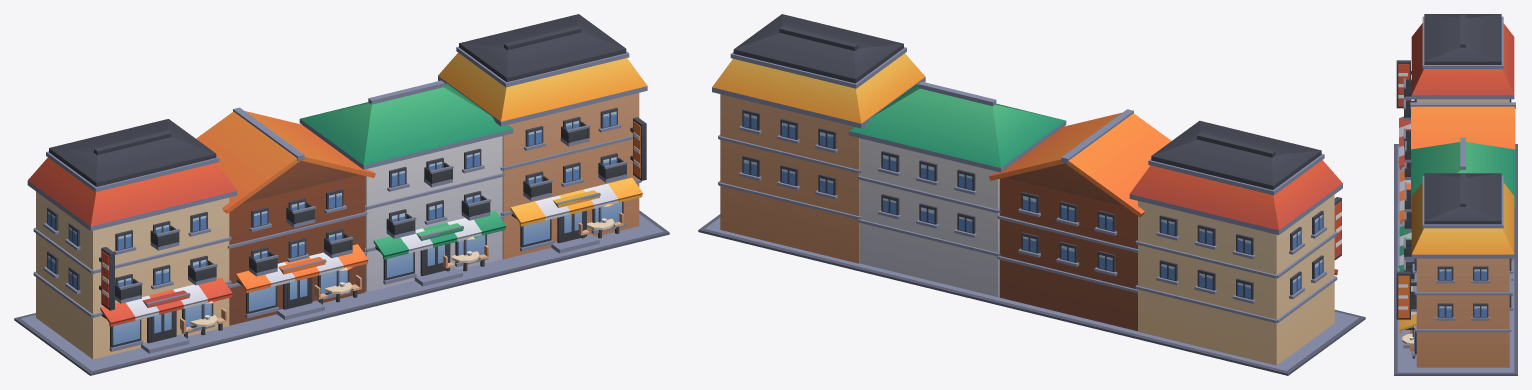
The model's file is com_artisan_row_4x1.glb.
The picture shows the model from 3 angles, left to right: view 1: azimuth 30°, elevation 25°; view 2: azimuth 150°, elevation 25°; view 3: azimuth 270°, elevation 25°; orthographic projection. The views are drawn at different scales.
Visible parts, largest first — view 1: com_artisan_row_4x1; view 2: com_artisan_row_4x1; view 3: com_artisan_row_4x1.
Part boxes in pixels (x1,y1,x2,y2): com_artisan_row_4x1: [14, 14, 669, 375]; com_artisan_row_4x1: [698, 14, 1365, 375]; com_artisan_row_4x1: [1394, 14, 1517, 375].
Bounding box in the file's own units: 7.74 × 2.4 × 1.76.
1 material, 1 textured.
